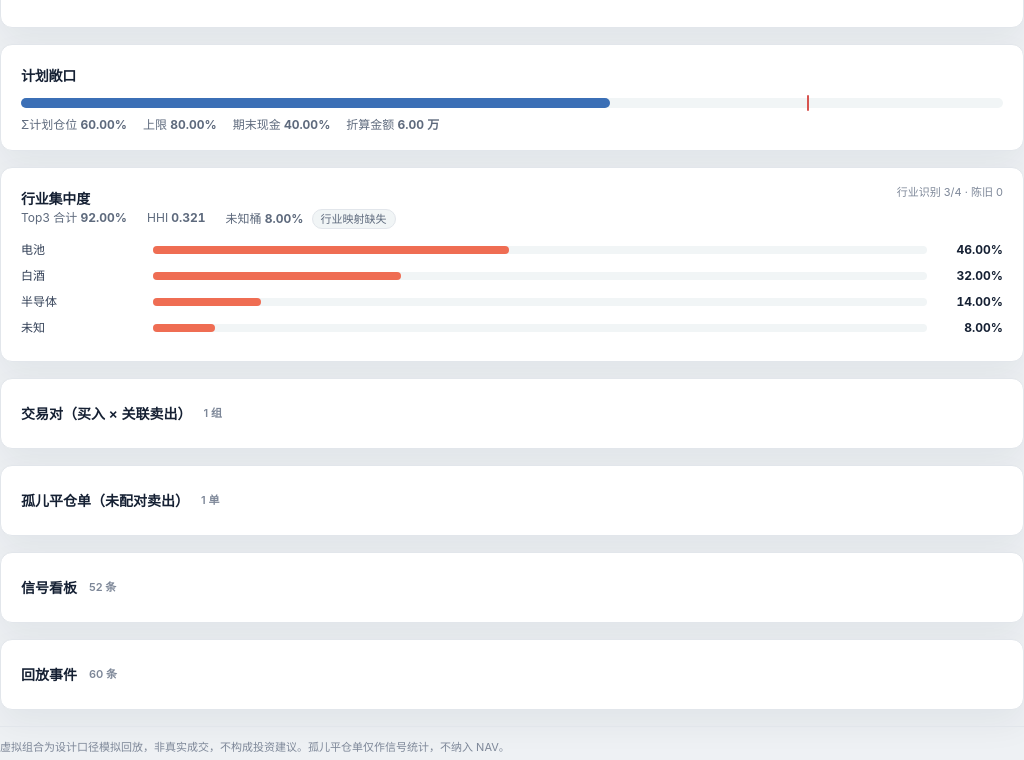
Test: ViewPortfolio › 折叠区截断披露：Total > len → 「共 N 条，已截断」，展开前不渲染
(page scrolled)
Expected: the text "共 52 条，已截断" is not shown
Step 1. Click the button with test id "portfolio-signals-toggle" → {"x": 49, "y": 588}, box [21, 569, 1003, 606]
(page scrolled)
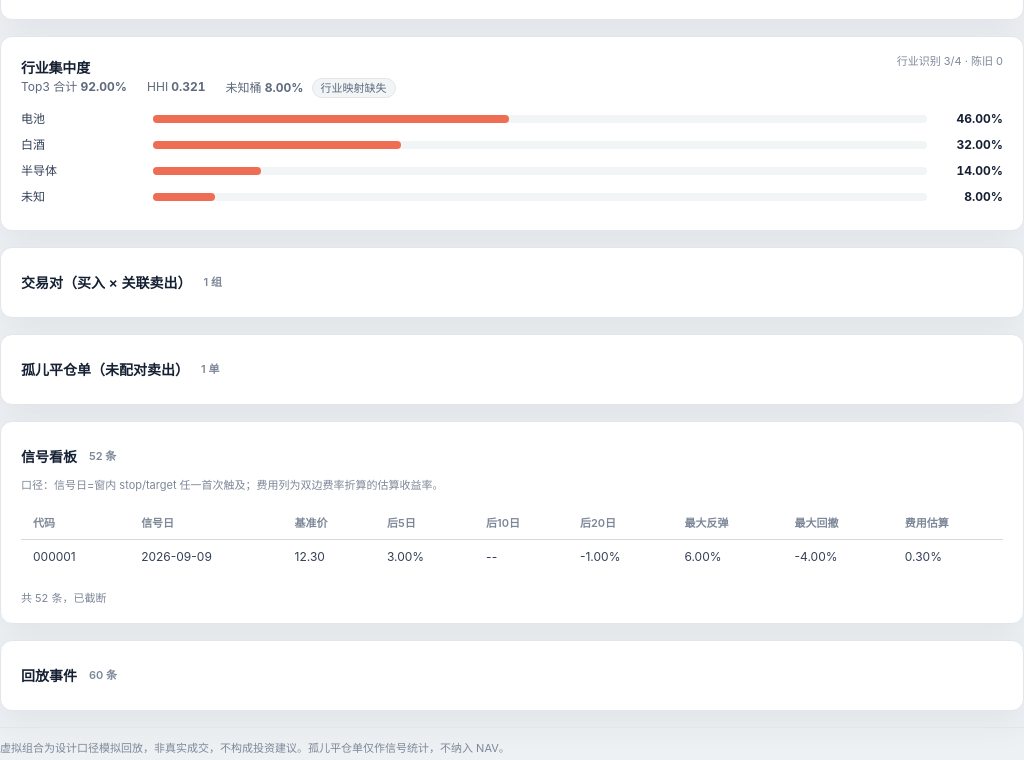
Step 2. Click the button with test id "portfolio-events-toggle" → {"x": 49, "y": 675}, box [21, 657, 1003, 694]
(page scrolled)
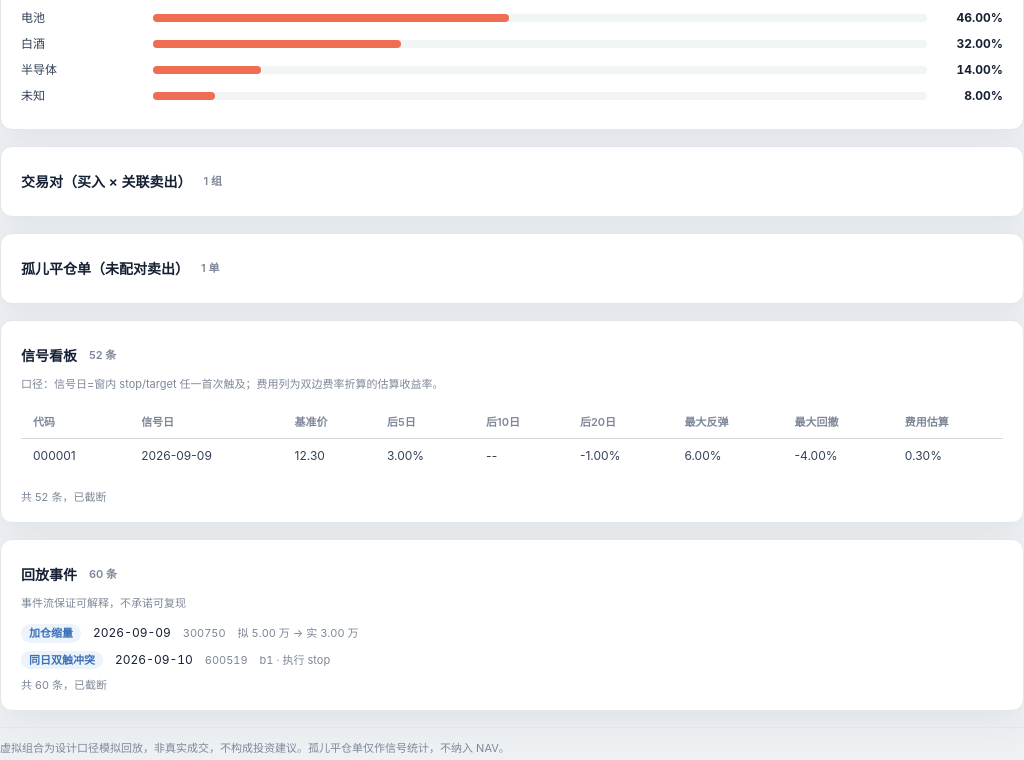
Result: the text with test id "portfolio-signals-more" reads "共 52 条，已截断" at [21, 490, 106, 504]
Result: the text with test id "portfolio-events-more" reads "共 60 条，已截断" at [21, 678, 107, 692]
